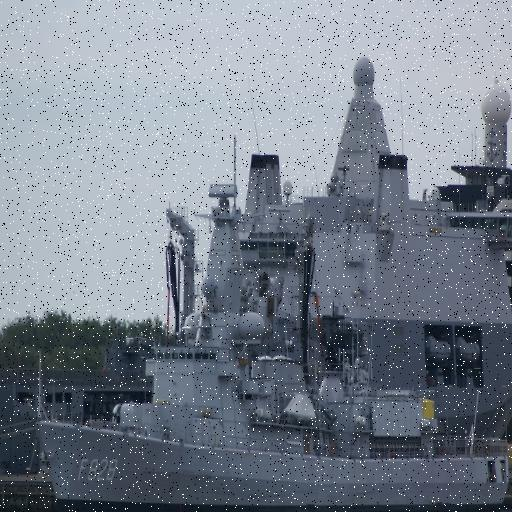Fragata: (34, 146, 512, 512)
